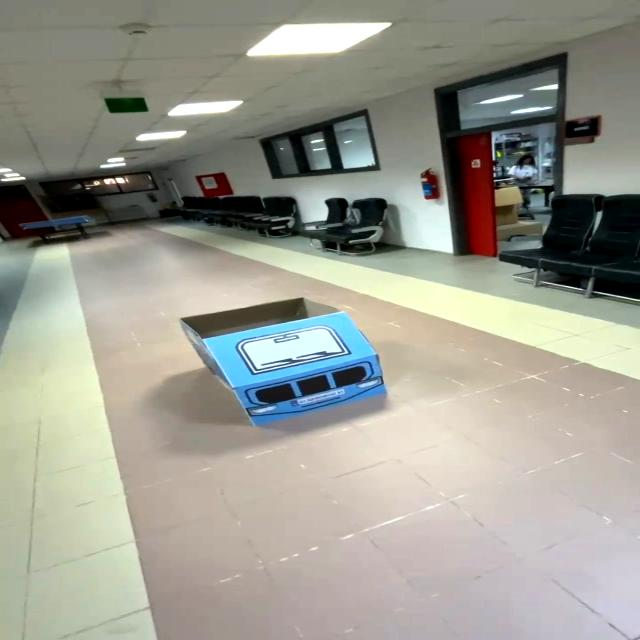blue_car: (149, 291, 428, 438)
